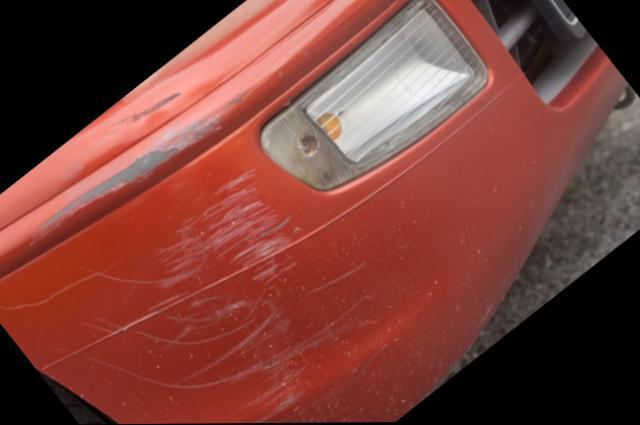scratch: (6, 152, 364, 424), (34, 72, 240, 236)
